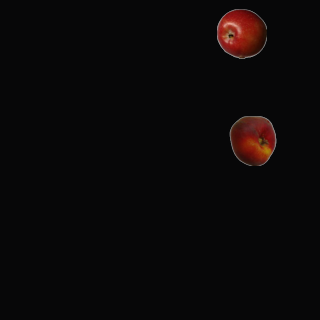Apple Braeburn: (216, 8, 266, 58)
Nectarine Flat: (227, 115, 277, 165)
